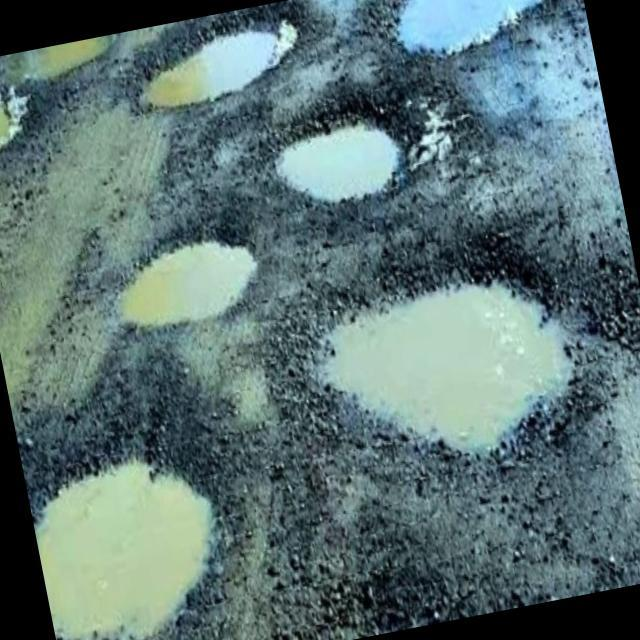Pothole: (275, 206, 629, 509), (15, 391, 267, 640), (88, 199, 289, 375), (252, 72, 432, 240), (119, 0, 327, 133), (371, 0, 591, 95), (0, 32, 133, 103), (0, 67, 46, 197)
